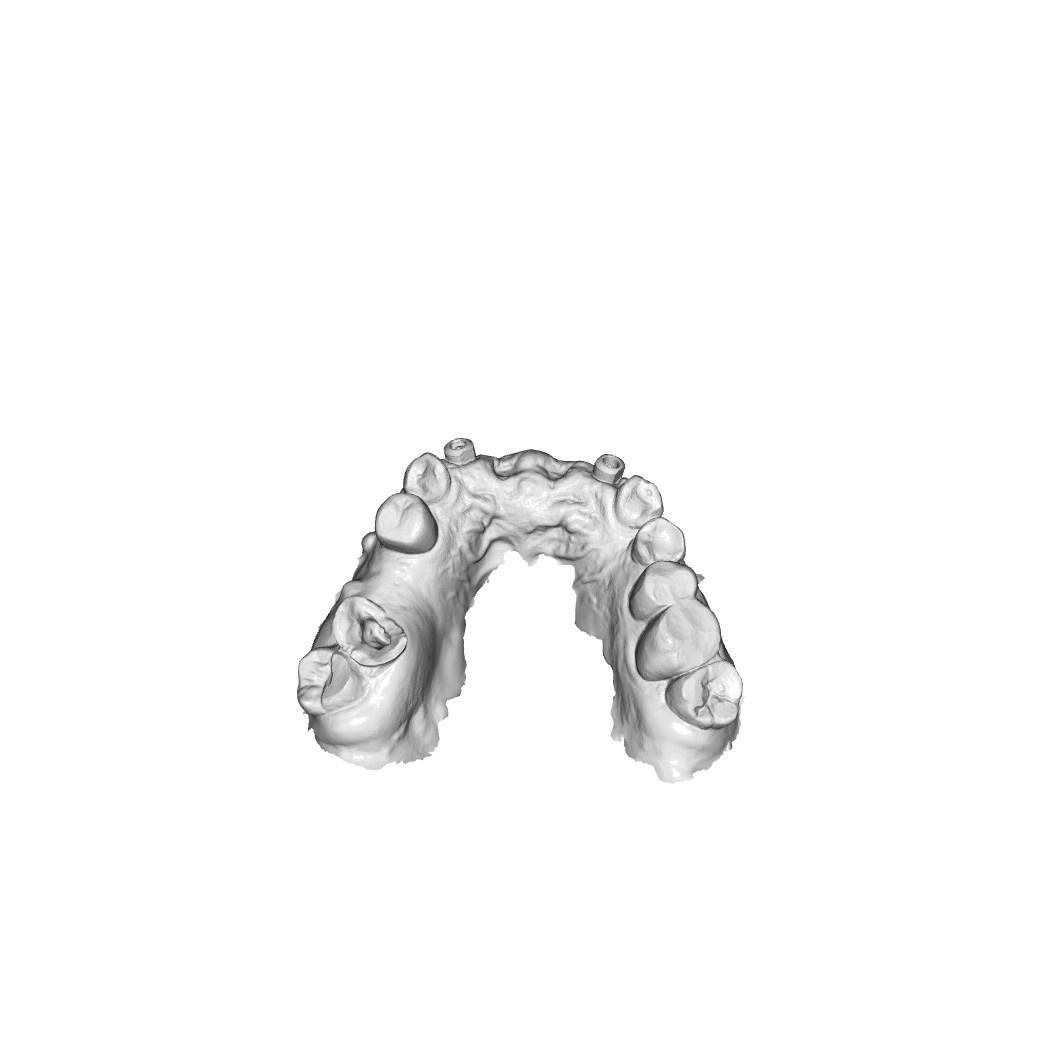canine: (615, 479, 664, 525), (406, 454, 449, 496)
implant: (593, 447, 629, 484), (445, 433, 477, 461)
molar: (636, 604, 721, 684), (668, 658, 748, 729), (291, 646, 362, 719)
premolar: (368, 491, 434, 549), (633, 563, 698, 605), (634, 519, 686, 558)
